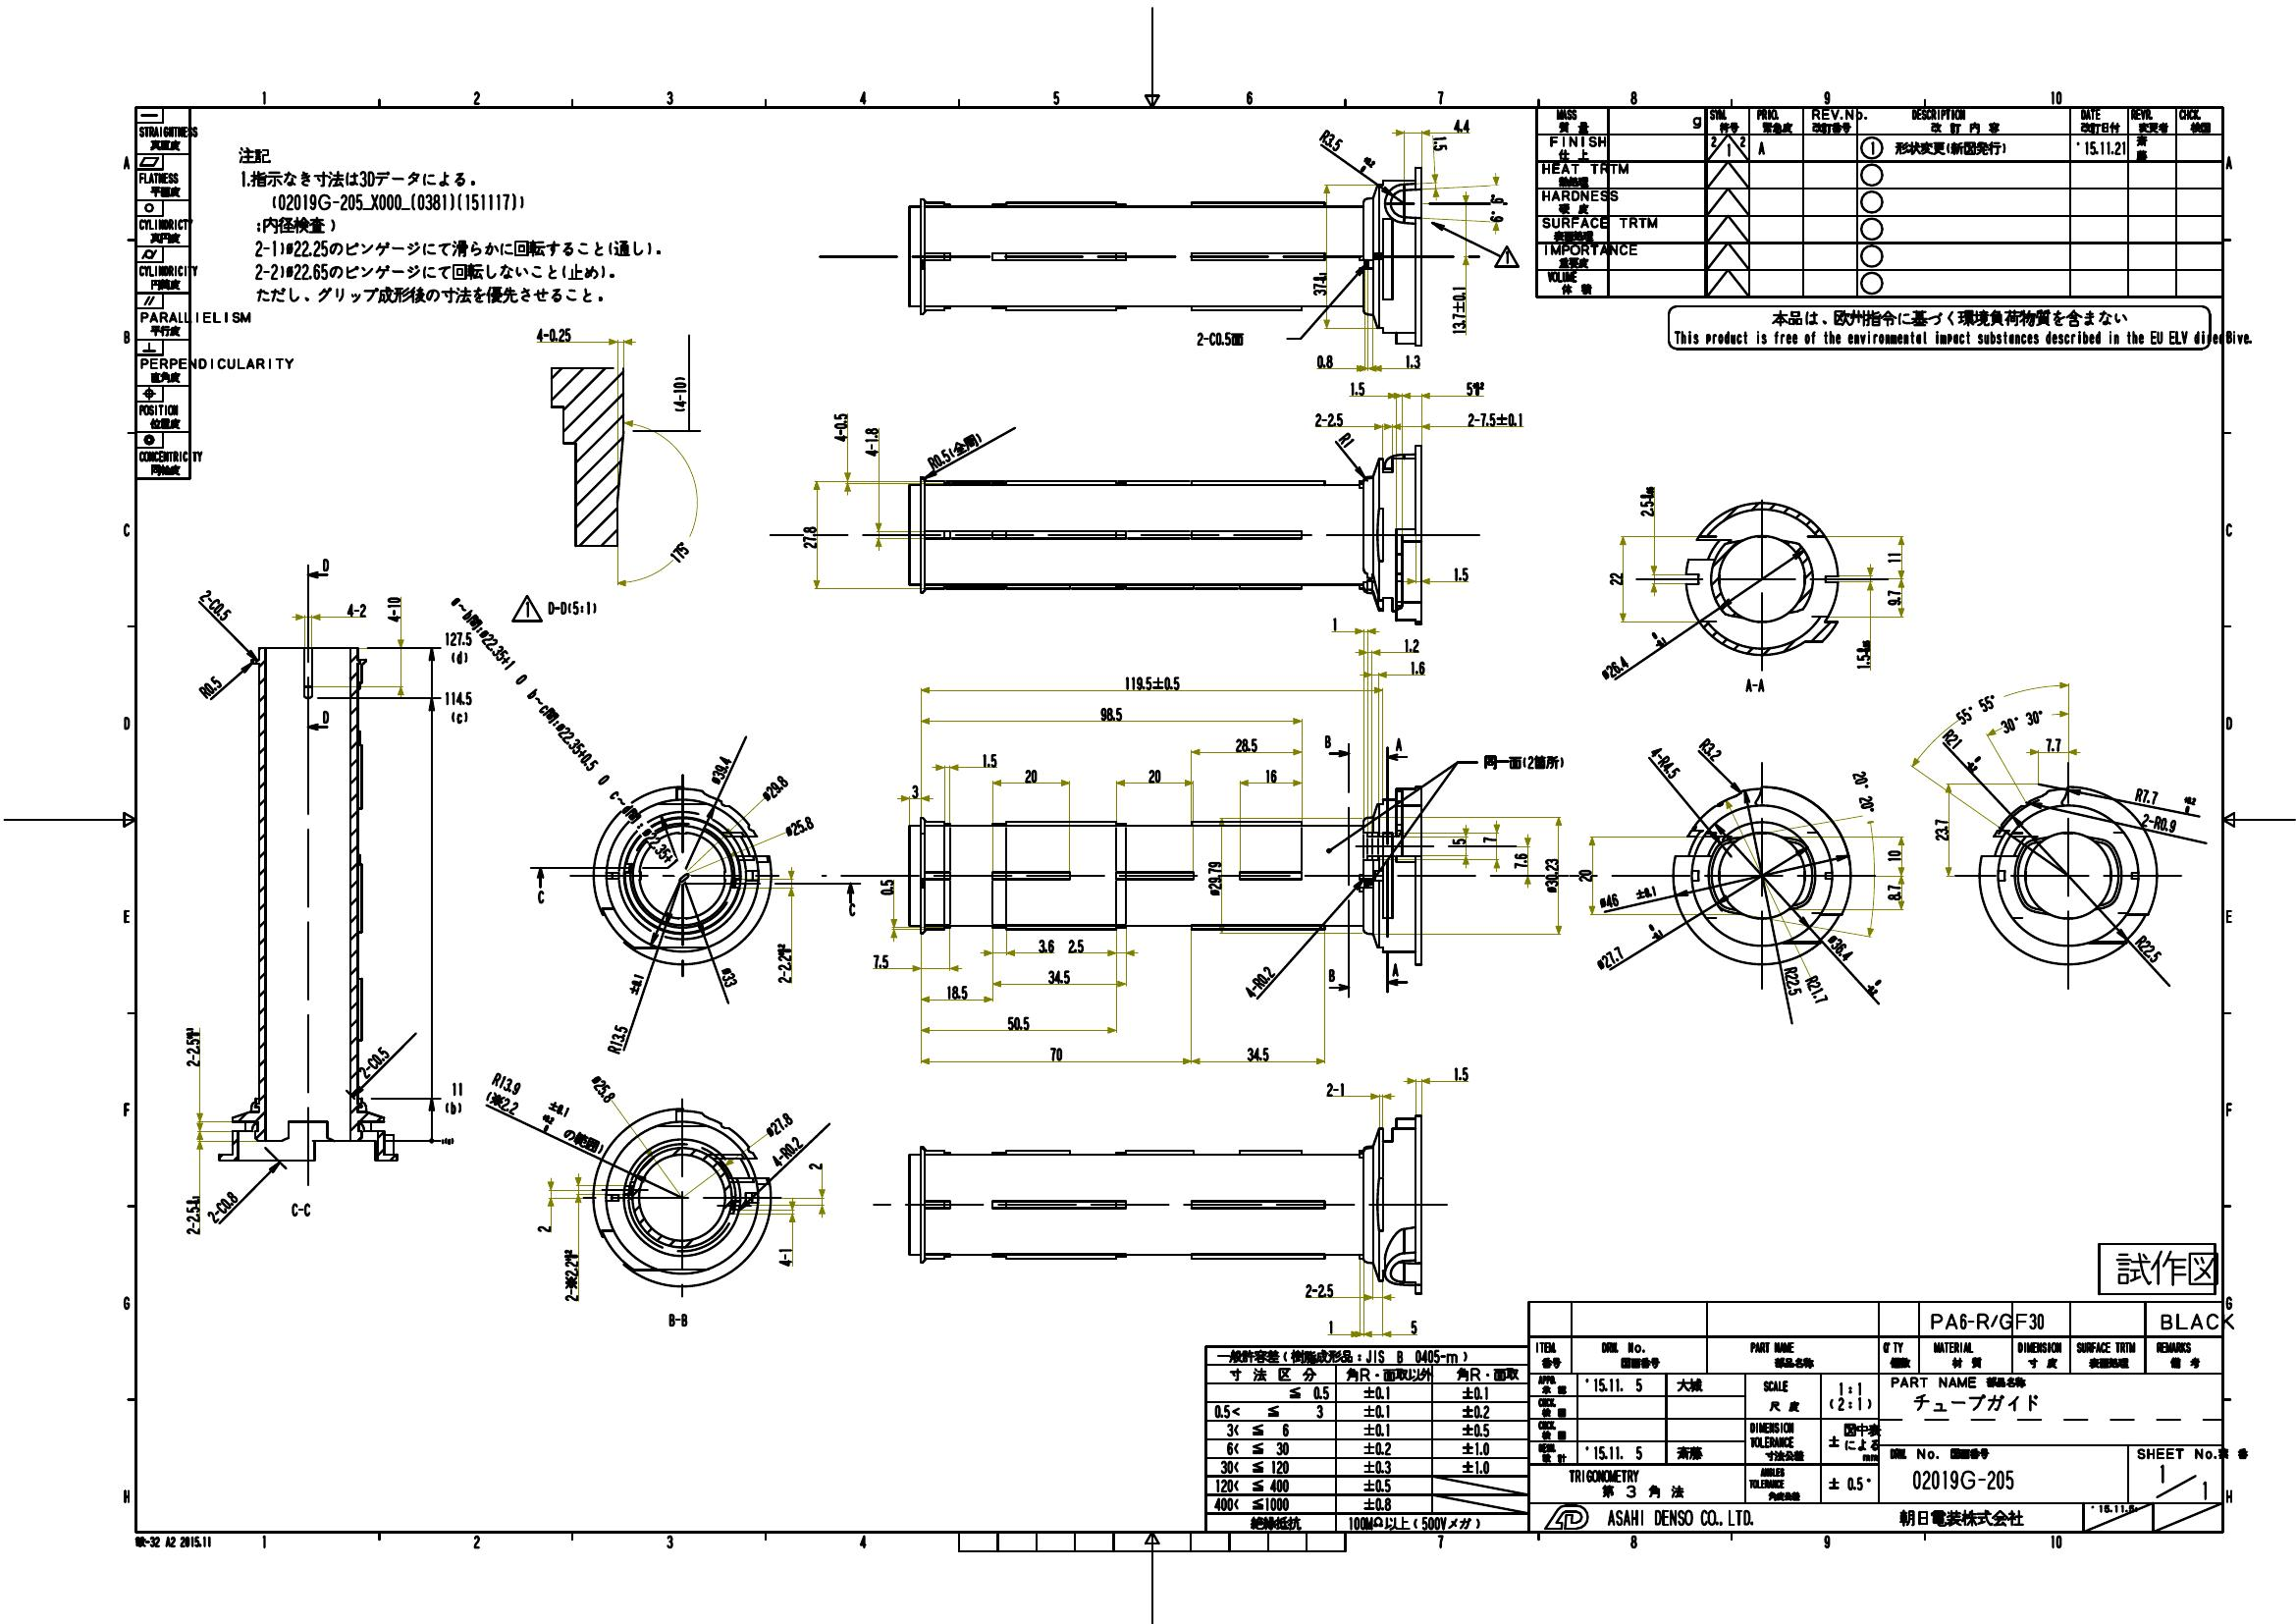anntotation_text: (235, 142, 664, 308), (1667, 304, 2210, 350), (2097, 1243, 2219, 1294), (508, 592, 597, 624), (1481, 750, 1565, 772), (135, 1534, 213, 1550), (283, 1200, 320, 1220), (446, 606, 488, 622), (606, 801, 648, 817), (522, 701, 566, 715), (1491, 244, 1518, 267), (664, 1309, 690, 1329), (947, 438, 982, 452), (448, 708, 471, 726), (441, 1100, 462, 1118), (450, 649, 473, 664), (1744, 677, 1765, 692), (532, 889, 550, 907), (1323, 731, 1337, 749), (843, 902, 857, 917), (1390, 961, 1404, 977), (1391, 738, 1405, 752), (320, 710, 332, 724), (1326, 968, 1339, 982), (320, 557, 330, 571)
dimension_text: (481, 1095, 613, 1130), (618, 972, 636, 1053), (1597, 645, 1671, 663), (543, 747, 622, 763), (1592, 939, 1665, 954), (1848, 926, 1864, 1000), (560, 1244, 580, 1302), (471, 650, 539, 666), (1312, 144, 1381, 160), (2131, 791, 2199, 807), (1465, 410, 1525, 425), (1124, 675, 1182, 691), (1449, 283, 1467, 334), (1196, 330, 1245, 348), (1938, 743, 1990, 759), (183, 1193, 202, 1236), (1855, 768, 1873, 814), (1600, 889, 1657, 903), (1955, 700, 1999, 717), (632, 840, 687, 854), (183, 1025, 200, 1067), (1999, 714, 2045, 729), (532, 325, 576, 341), (669, 374, 687, 413), (775, 942, 791, 984), (1657, 743, 1674, 780), (355, 1053, 393, 1069), (1488, 192, 1507, 223), (1240, 974, 1279, 990), (1207, 859, 1223, 896), (1542, 858, 1558, 895), (766, 1142, 806, 1156), (1639, 483, 1655, 517), (1855, 638, 1871, 671), (195, 598, 232, 612), (204, 1199, 241, 1213), (444, 629, 473, 647), (444, 689, 473, 707), (1310, 269, 1328, 297), (2141, 816, 2177, 830), (863, 427, 878, 457), (1785, 965, 1801, 995), (943, 982, 970, 1000), (1098, 705, 1124, 722), (1231, 735, 1258, 752), (833, 411, 847, 443), (713, 754, 727, 786), (768, 773, 783, 801), (764, 1118, 796, 1132), (1305, 1283, 1337, 1297), (1809, 974, 1823, 1005), (1702, 735, 1718, 763), (197, 678, 221, 696), (1245, 1044, 1270, 1062), (386, 592, 401, 622), (2133, 942, 2162, 956), (792, 814, 808, 840), (1047, 967, 1070, 984), (1314, 411, 1342, 425), (588, 1081, 617, 1095), (344, 601, 369, 617), (1932, 817, 1948, 842), (803, 524, 817, 550), (1449, 1065, 1470, 1083), (1463, 380, 1484, 395), (1325, 1081, 1346, 1097), (880, 877, 896, 898), (870, 953, 891, 968), (1513, 851, 1528, 872), (1885, 587, 1901, 608), (1007, 1016, 1029, 1030), (1065, 939, 1087, 953), (1312, 353, 1333, 367), (928, 452, 949, 466), (778, 1246, 792, 1267), (1021, 768, 1042, 782), (1349, 380, 1367, 395), (1409, 659, 1426, 675), (1147, 766, 1163, 784), (1885, 882, 1901, 900), (669, 545, 689, 559), (1451, 118, 1470, 132), (1404, 353, 1423, 367), (1036, 939, 1056, 953), (978, 752, 998, 766), (1451, 566, 1467, 582), (1578, 866, 1593, 882), (2045, 736, 2061, 752), (1433, 134, 1448, 151), (722, 967, 736, 984), (806, 1158, 824, 1172), (1049, 1042, 1063, 1060), (1404, 638, 1419, 652), (1607, 571, 1621, 587), (1887, 548, 1901, 564), (450, 1081, 464, 1095), (1265, 768, 1279, 782), (1887, 849, 1901, 863), (1339, 434, 1354, 446), (1407, 1318, 1419, 1334), (1325, 1320, 1337, 1334), (908, 782, 919, 798), (536, 1223, 553, 1232), (1479, 835, 1497, 844), (1330, 617, 1340, 631), (1451, 838, 1467, 844)
object: (906, 1114, 1423, 1294), (906, 786, 1421, 965), (216, 649, 395, 1160), (908, 169, 1421, 346), (908, 446, 1421, 624), (1976, 786, 2157, 967), (1672, 786, 1850, 965), (592, 787, 769, 965), (592, 1109, 771, 1285), (1683, 501, 1839, 656), (550, 367, 618, 547)
title_block: (1203, 1301, 2226, 1534), (1534, 107, 2220, 299), (135, 105, 190, 480)
